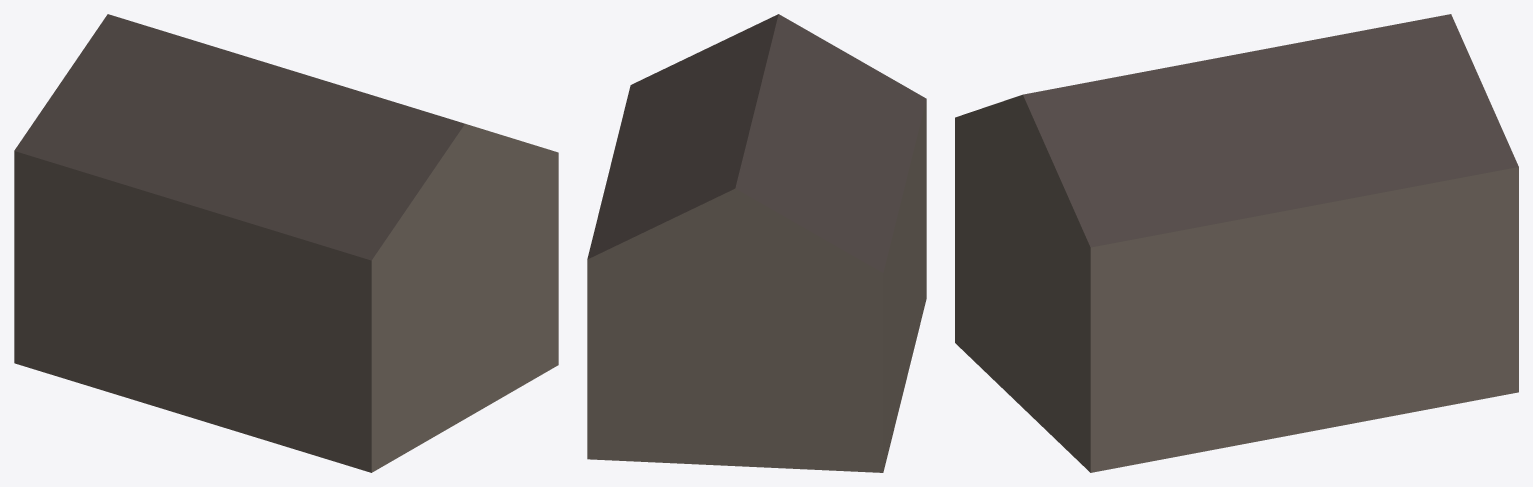
3 views of the same model, side by side, from view 1: azimuth 30°, elevation 25°; view 2: azimuth 150°, elevation 25°; view 3: azimuth 270°, elevation 25° (orthographic). The views are drawn at different scales.
Visible parts, largest first — view 1: HP-w369342544; view 2: HP-w369342544; view 3: HP-w369342544.
Boxes of the visible parts, <box> form: HP-w369342544: <box>14,14,558,472</box>; HP-w369342544: <box>587,14,926,472</box>; HP-w369342544: <box>955,14,1518,472</box>.
Size of the model in its own units: 12.02 by 8.34 by 13.6.
